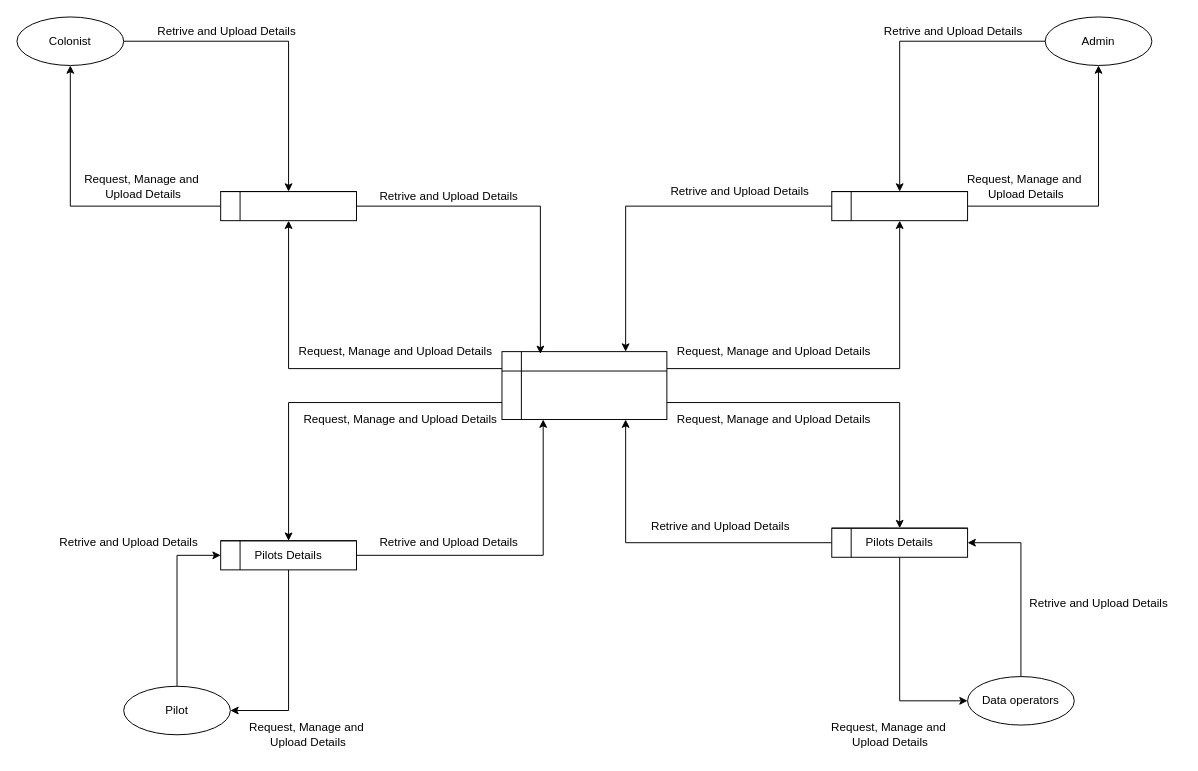
This 1198x771 diagram has some shape labels left out. The centre of each missing label's shape, as x and y in pixels:
Colonists Details: point 288,206
Mars Colonization Database: point 899,206
Mars Colonization System: point 584,385
